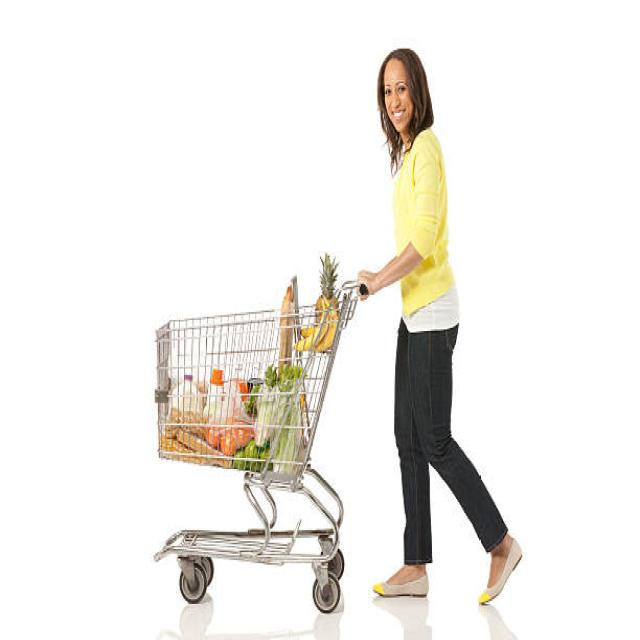Person: (361, 47, 523, 605)
